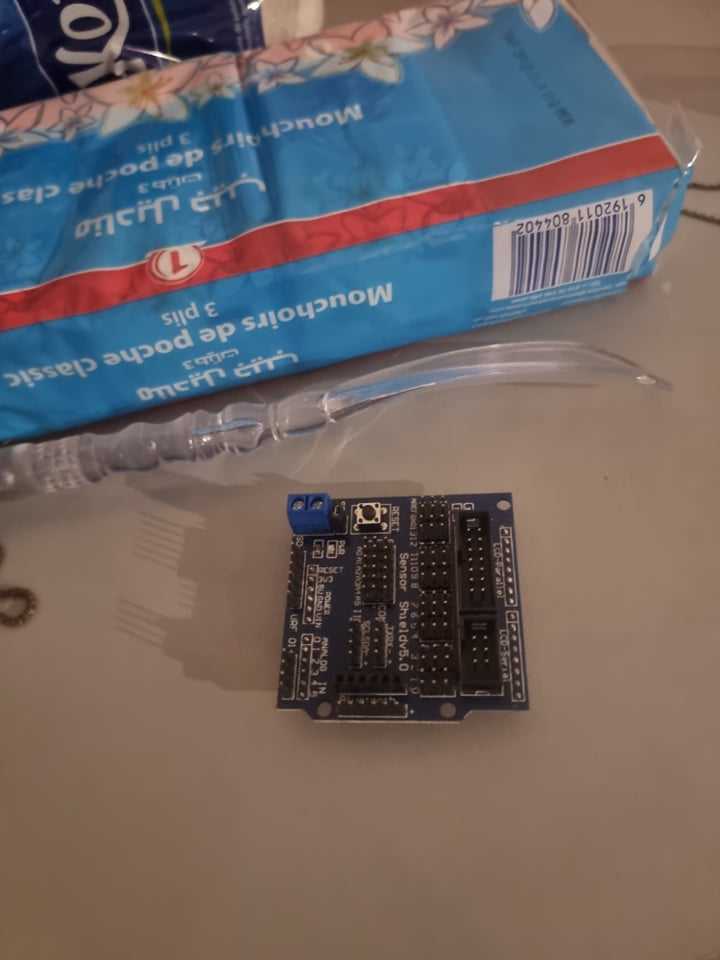5V EXPANSION: (274, 490, 530, 723)
